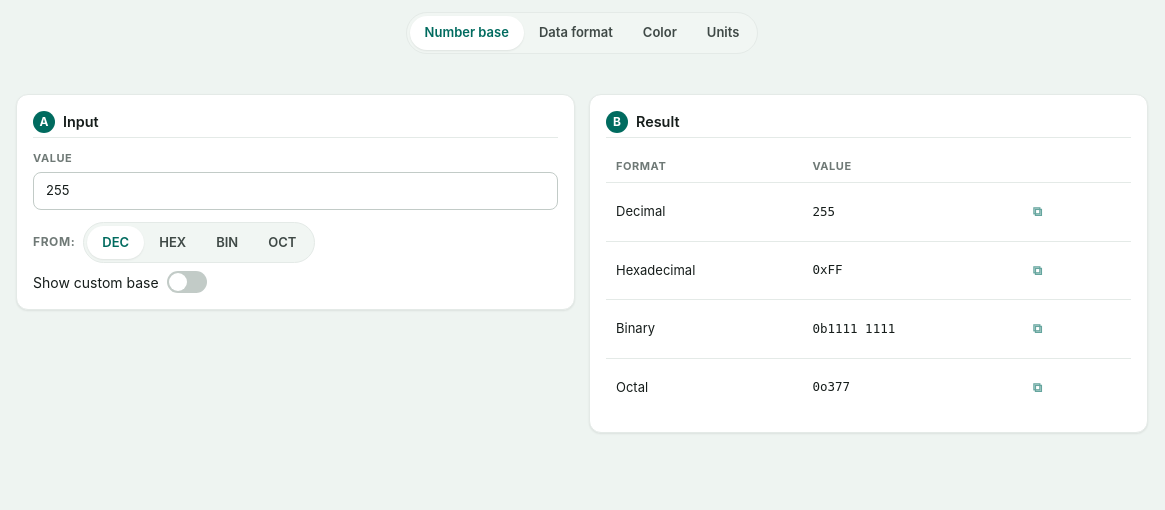
ConvertingToolsPage — number-base mode (default) › toggling "Show custom base" reveals the custom base input
The width and height of the screenshot is (1165, 510).
What coordinates should you click on to do the following:
click the switch named "show custom base"
I would click on:
 (187, 282)
Its box is [167,271,207,293].
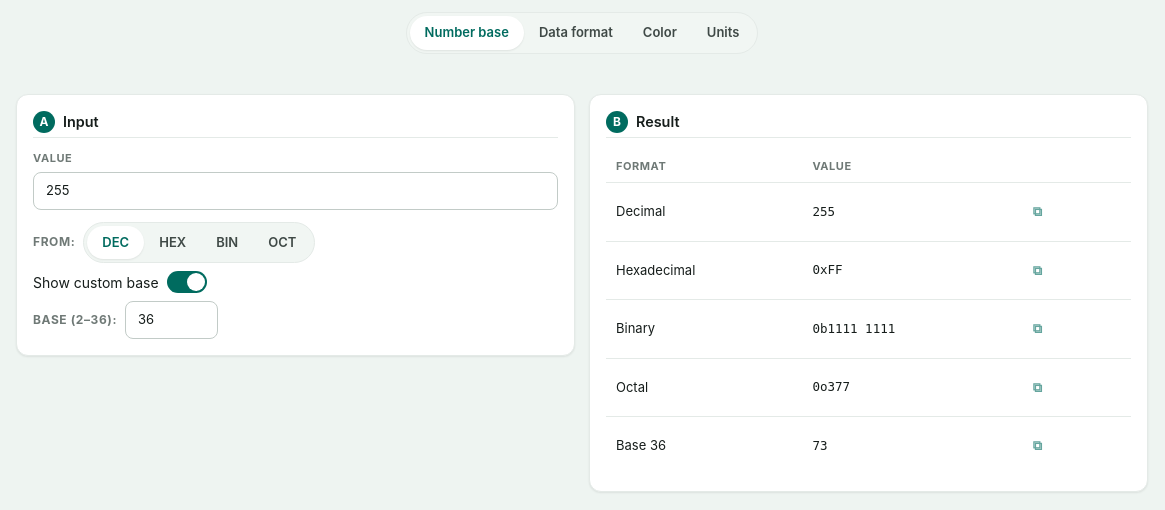
Check: the number field labelled "Base (2–36):" is shown, box [125,301,218,338]
